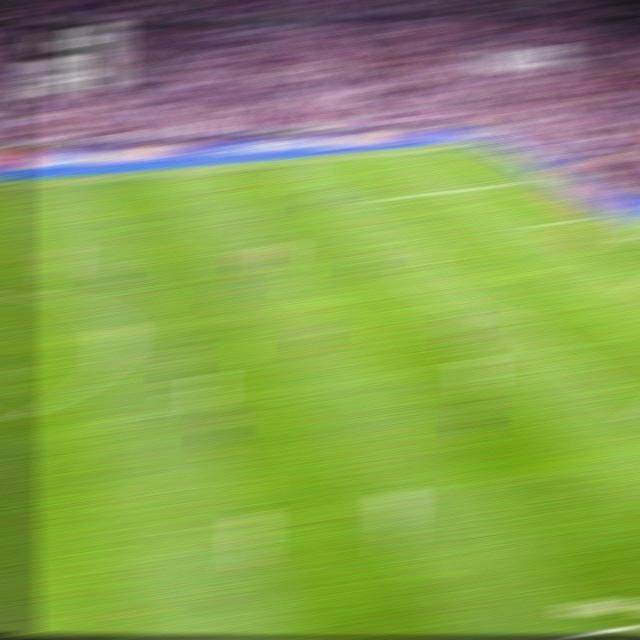bigarea_bottom_inner: (622, 403, 640, 424)
bigarea_top_inner: (360, 192, 386, 206)
bigarea_top_outter: (510, 174, 537, 186)
bottom_arc_area_intersection: (504, 311, 532, 327)
corner: (449, 142, 474, 150)
smallarea_top_inner: (524, 219, 550, 230)
top_arc_area_intersection: (417, 239, 442, 252)
